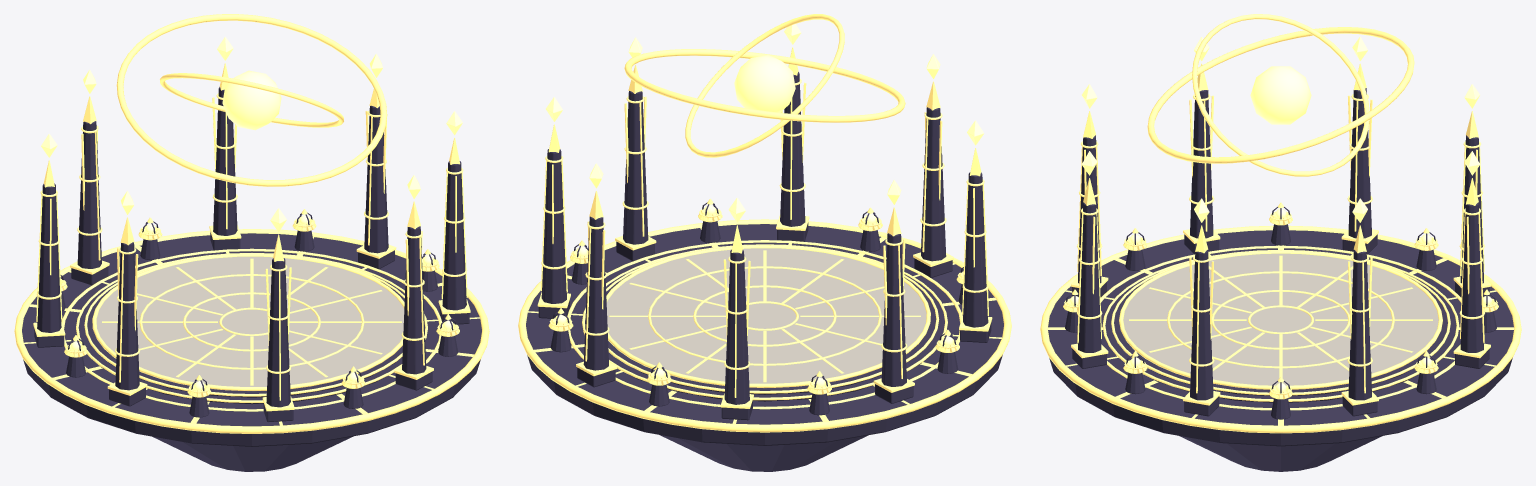
Rendered from summit_crown_altar.glb.
The picture shows the model from 3 angles, left to right: view 1: azimuth 30°, elevation 25°; view 2: azimuth 150°, elevation 25°; view 3: azimuth 270°, elevation 25°; orthographic projection. The views are drawn at different scales.
Visible parts, largest first — view 1: BrazBase_0, BrazCollar_0, InnerTerrace, BrazFlame_0; view 2: BrazBase_0, BrazCollar_0, InnerTerrace, BrazFlame_0; view 3: BrazBase_0, BrazCollar_0, InnerTerrace, BrazFlame_0.
Part boxes in pixels (<box>): BrazBase_0: <box>22,87,481,471</box>; BrazCollar_0: <box>14,14,489,433</box>; InnerTerrace: <box>96,256,404,391</box>; BrazFlame_0: <box>41,36,462,389</box>; BrazBase_0: <box>526,72,1003,471</box>; BrazCollar_0: <box>518,14,1011,432</box>; InnerTerrace: <box>606,248,926,388</box>; BrazFlame_0: <box>546,24,984,386</box>; BrazBase_0: <box>1048,88,1513,471</box>; BrazCollar_0: <box>1040,14,1521,433</box>; InnerTerrace: <box>1123,253,1438,388</box>; BrazFlame_0: <box>1070,36,1491,391</box>.
Size of the model in its own units: 19.64 by 18.22 by 19.64.
